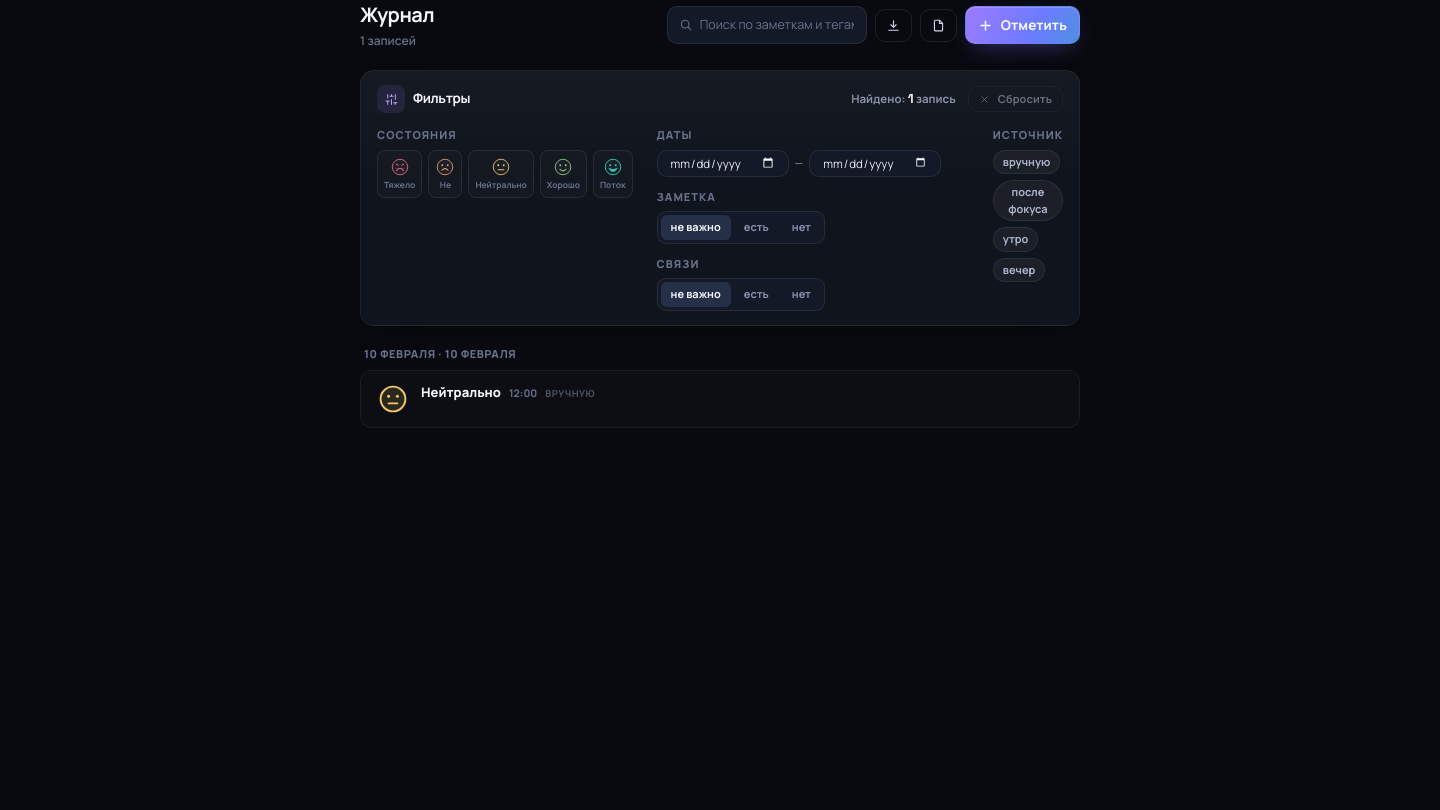
Test case: Экспорт CSV › Esc закрывает диалог без выгрузки
Step 1. Click the button named "Экспорт CSV" → (893, 25), box [875,8,912,42]
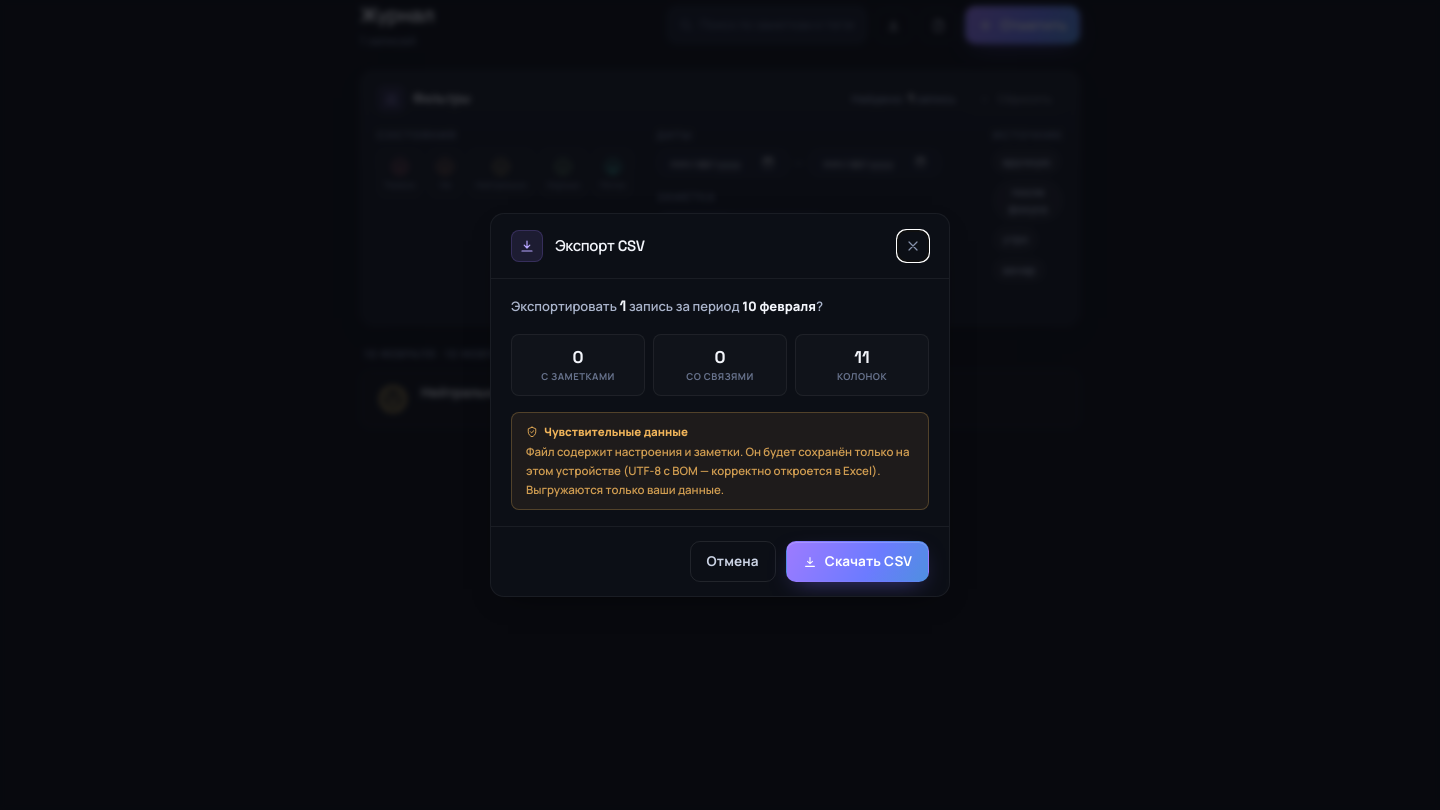
Step 2. Press Escape
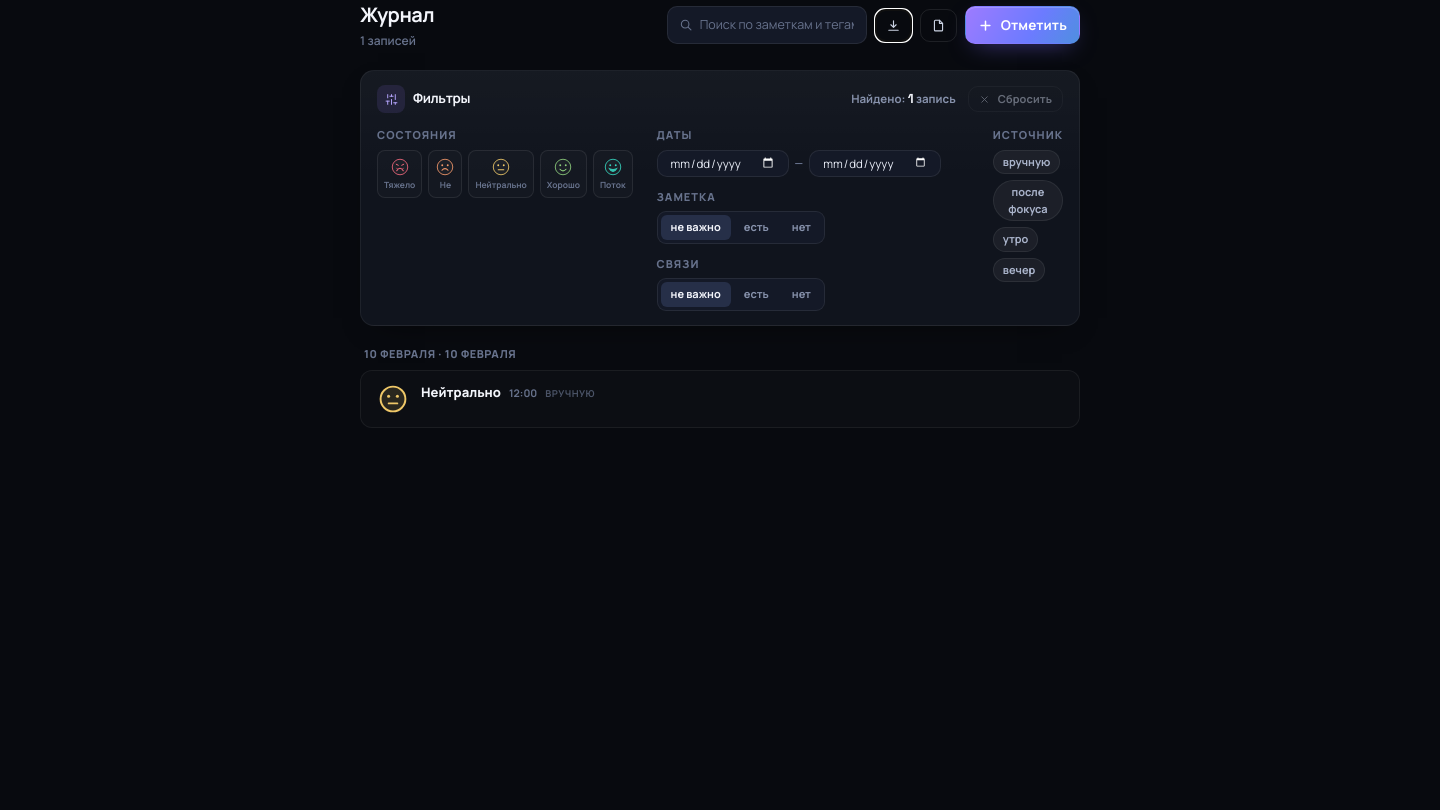
Result: the dialog is gone
